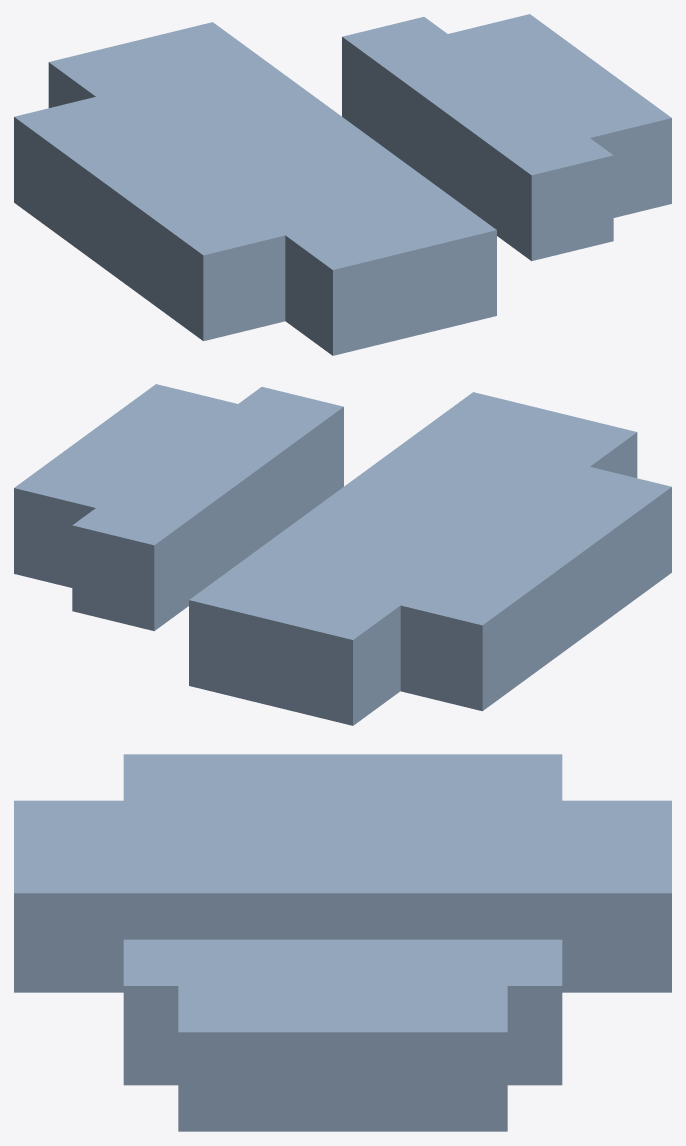
File: stone-path.obj
3 views of the same model, one above another, from view 1: azimuth 30°, elevation 25°; view 2: azimuth 150°, elevation 25°; view 3: azimuth 270°, elevation 25° (orthographic). The views are drawn at different scales.
Size of the model in its own units: 6 by 1 by 6.
Materials: 1 (1 with a texture image).
